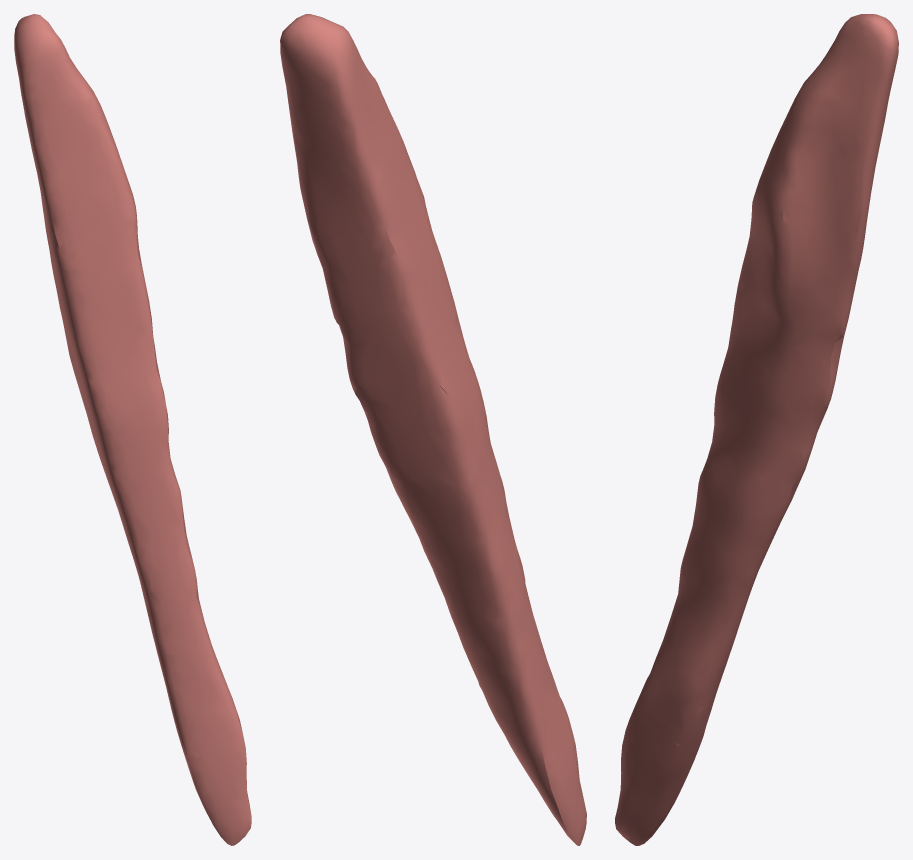
The model's file is fma40841-n_mm1825.glb.
3 renders of one model, left to right at view 1: azimuth 90°, elevation 25°; view 2: azimuth 150°, elevation 25°; view 3: azimuth 270°, elevation 25°, orthographic. The views are drawn at different scales.
Parts seen in each view (by area): view 1: FMA40841-N_MM1825; view 2: FMA40841-N_MM1825; view 3: FMA40841-N_MM1825.
Part boxes in pixels (box(x1,y1,x2,y2)): FMA40841-N_MM1825: box(14, 14, 251, 845); FMA40841-N_MM1825: box(280, 14, 586, 845); FMA40841-N_MM1825: box(615, 14, 898, 845).
Bounding box in the file's own units: 0.0141 × 0.0648 × 0.0183.
